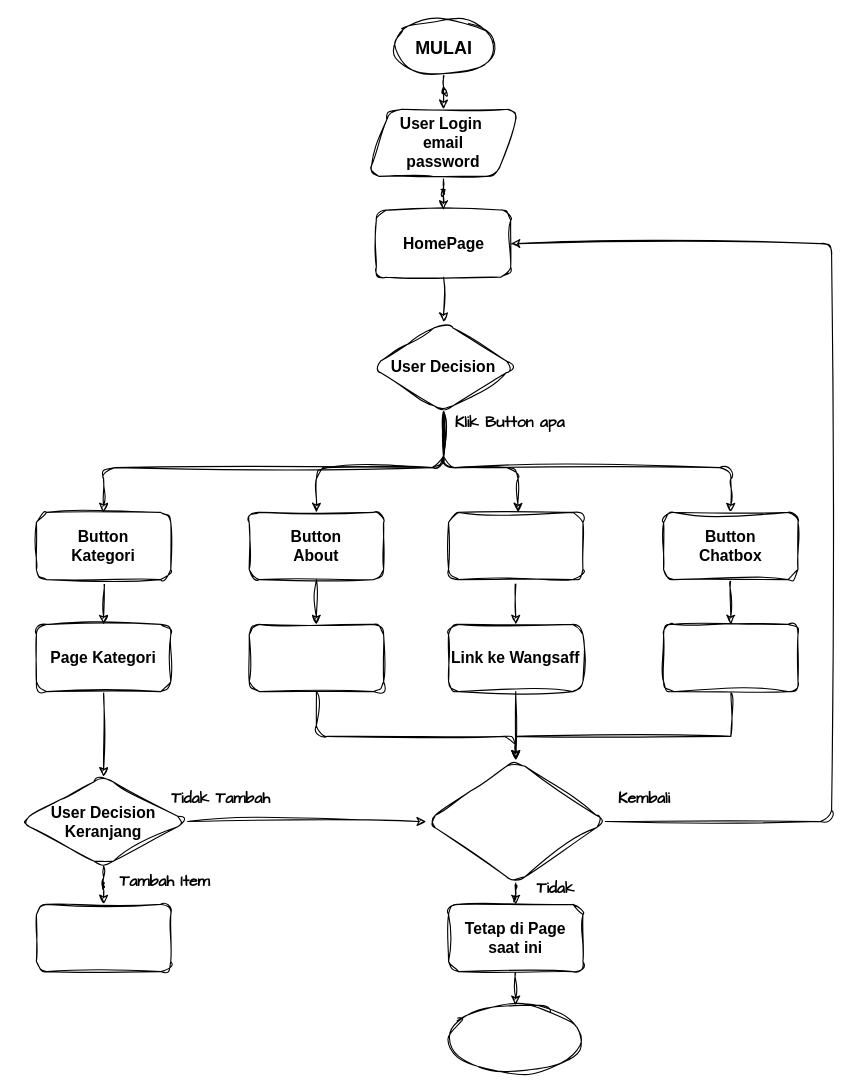
Some shapes in this 860 by 1092 pixel diagram are drawn without their labels. Here are the shapes that lost their labels. From the top down, the centre of each, then its label:
At (515,545): "Button Contact Us".
At (316,657): "Page About".
At (730,657): "Page Chatbox (AI)".
At (515,821): "User Decision Kembali Ke Homepage?".
At (103,937): "+1 Item".
At (515,1038): "SELESAI".
